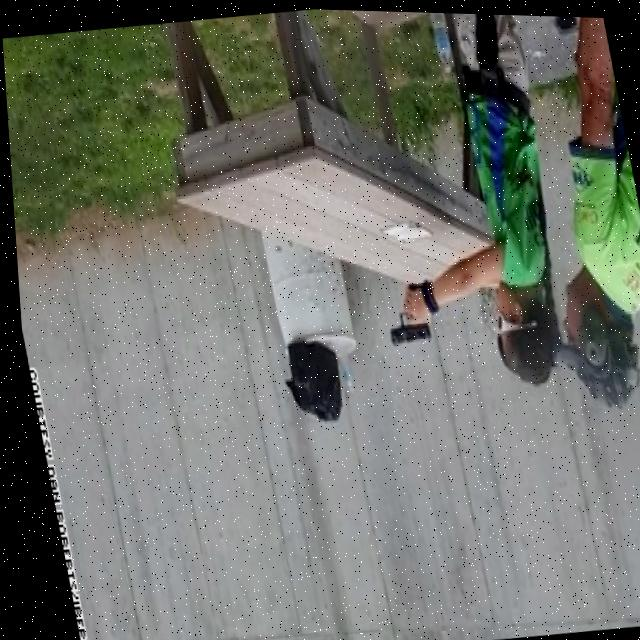pistol: (379, 302, 427, 345)
